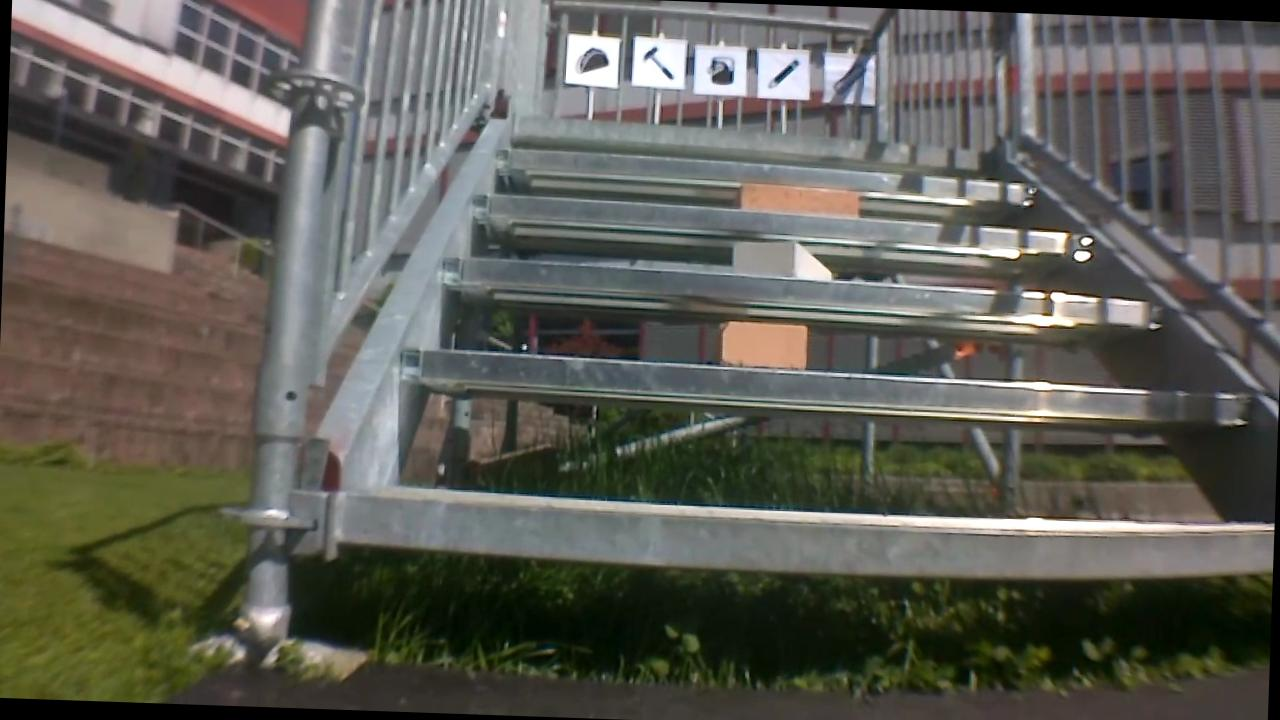brick: (713, 319, 811, 368), (731, 239, 841, 282), (742, 185, 865, 215)
edge: (325, 486, 1274, 577), (394, 343, 1268, 420), (436, 260, 1175, 322), (465, 195, 1104, 245), (488, 145, 1045, 193), (506, 114, 1003, 158)
steps: (315, 112, 1280, 584)
